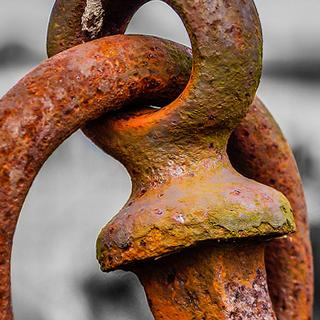rust: (111, 41, 300, 214), (1, 49, 94, 176)
